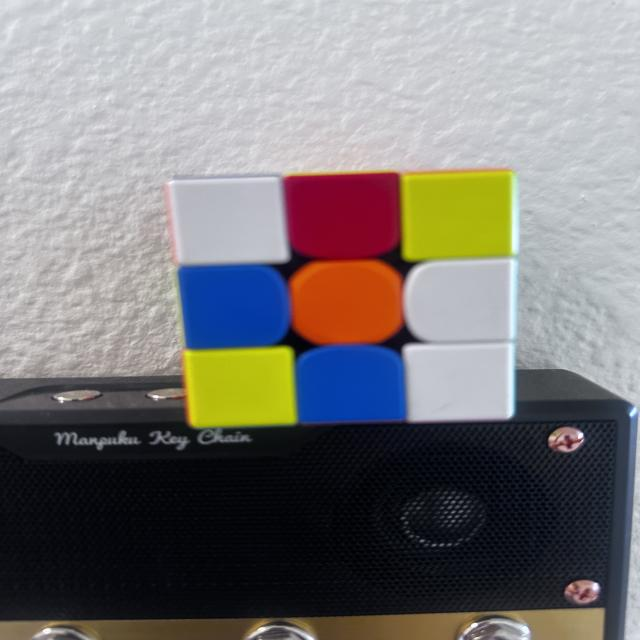sticker: (165, 175, 294, 272), (400, 170, 518, 265), (283, 172, 405, 263), (287, 260, 406, 348), (401, 258, 516, 346), (178, 265, 291, 351), (183, 347, 300, 430), (402, 342, 516, 424), (295, 345, 407, 424)
